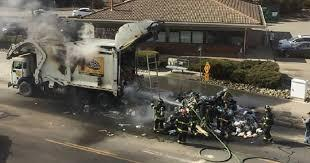smoke: (0, 0, 100, 74)
